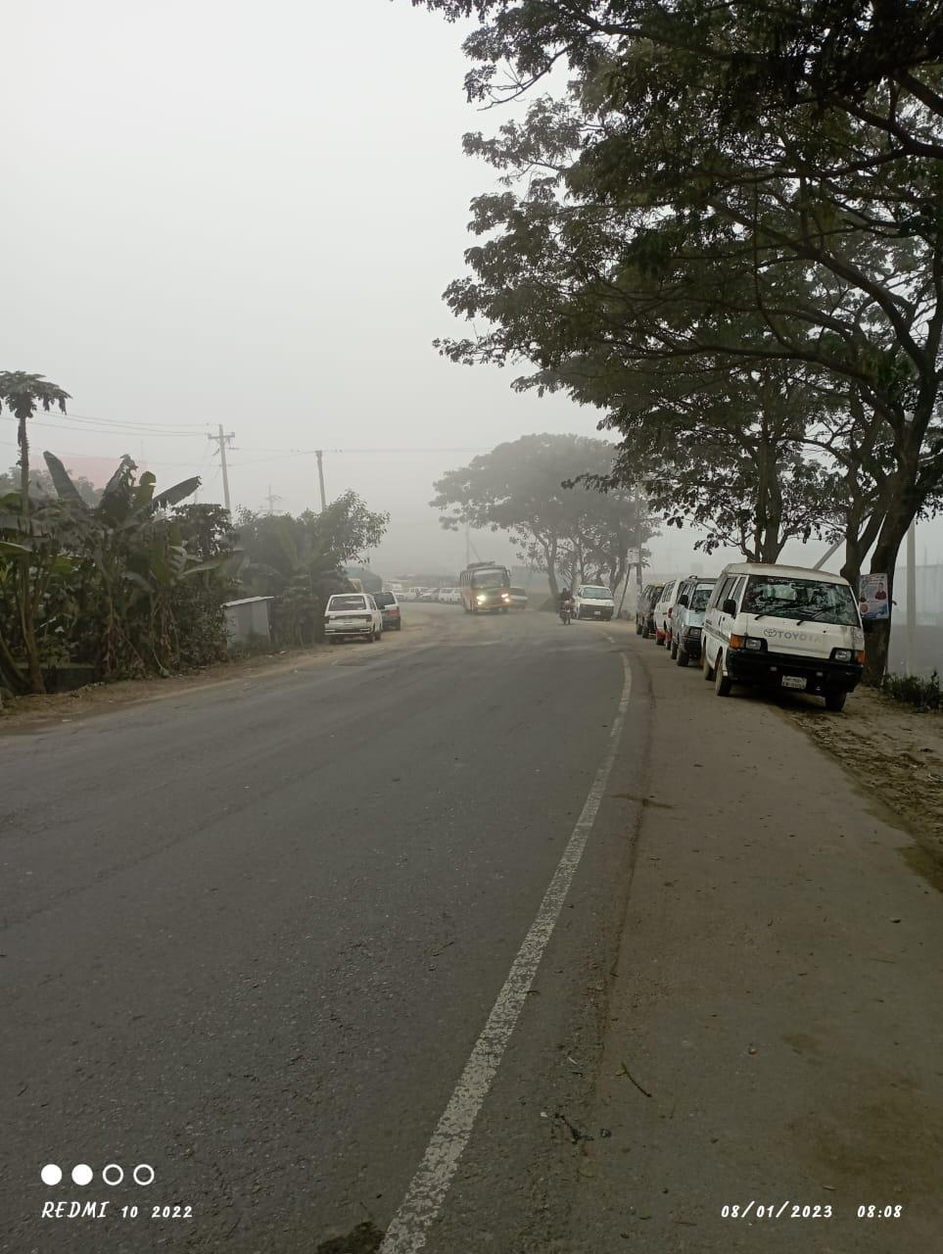Bike: (549, 583, 576, 630)
Bus: (456, 555, 518, 618)
Car: (695, 559, 878, 722), (314, 587, 384, 644), (570, 581, 627, 620)
